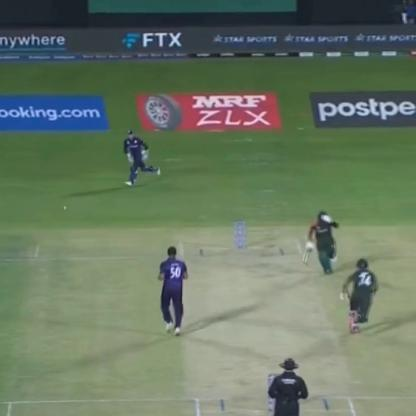ball: (60, 204, 68, 211)
bat: (298, 240, 314, 279)
pitch: (161, 224, 352, 416)
